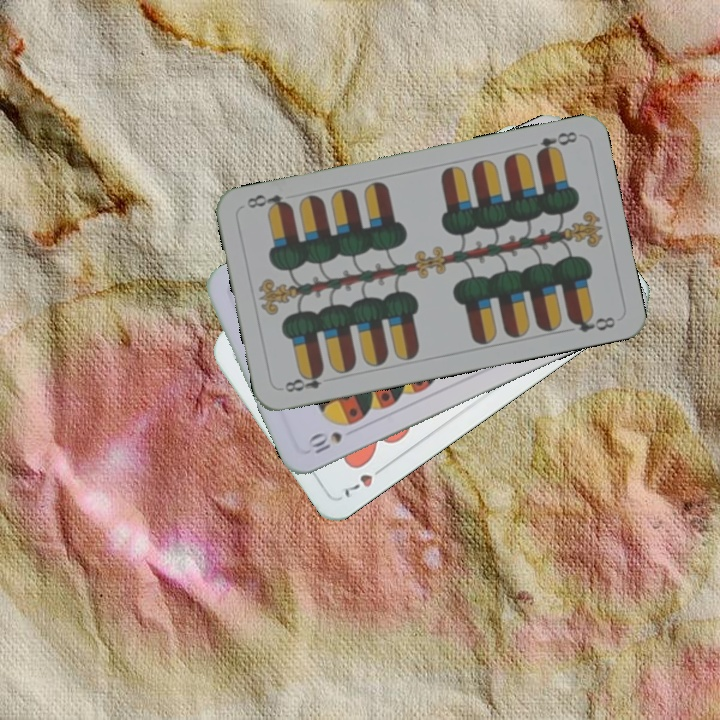E8: (531, 127, 580, 159), (280, 366, 326, 395)
H7: (338, 461, 389, 501)
S10: (306, 427, 345, 457)
